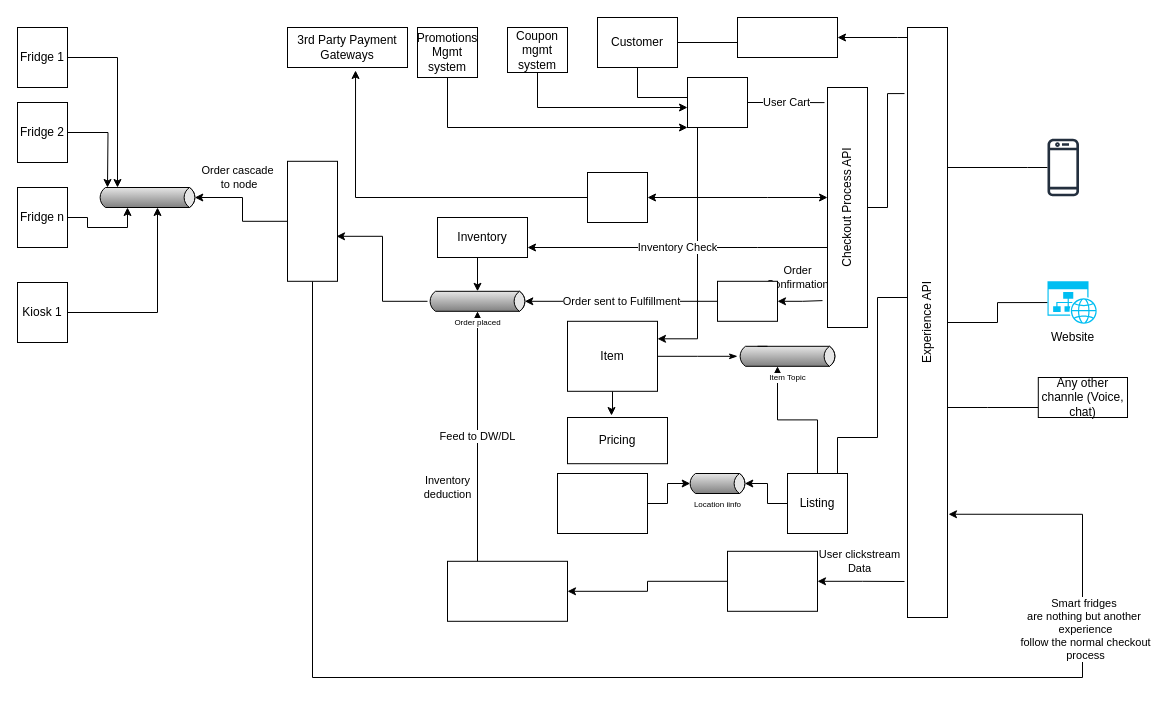
Some shapes in this 1167 by 703 pixel diagram are drawn without their labels. The shapes that lost their labels are listed below. From the top down, each one's box as (x1, y1, x2, y2) in pixels, then its label:
(736, 16, 838, 58): AuthN and AuthZ
(686, 76, 748, 128): Cart
(1047, 137, 1078, 197): Mobile App
(586, 172, 648, 222): Payment
(286, 160, 338, 281): Smart Fridge Cloud API
(716, 280, 778, 321): Order
(556, 472, 648, 534): Fridge/Selling Locations (Nodes)
(446, 560, 568, 621): DataLake
(726, 550, 818, 611): Clickstream
